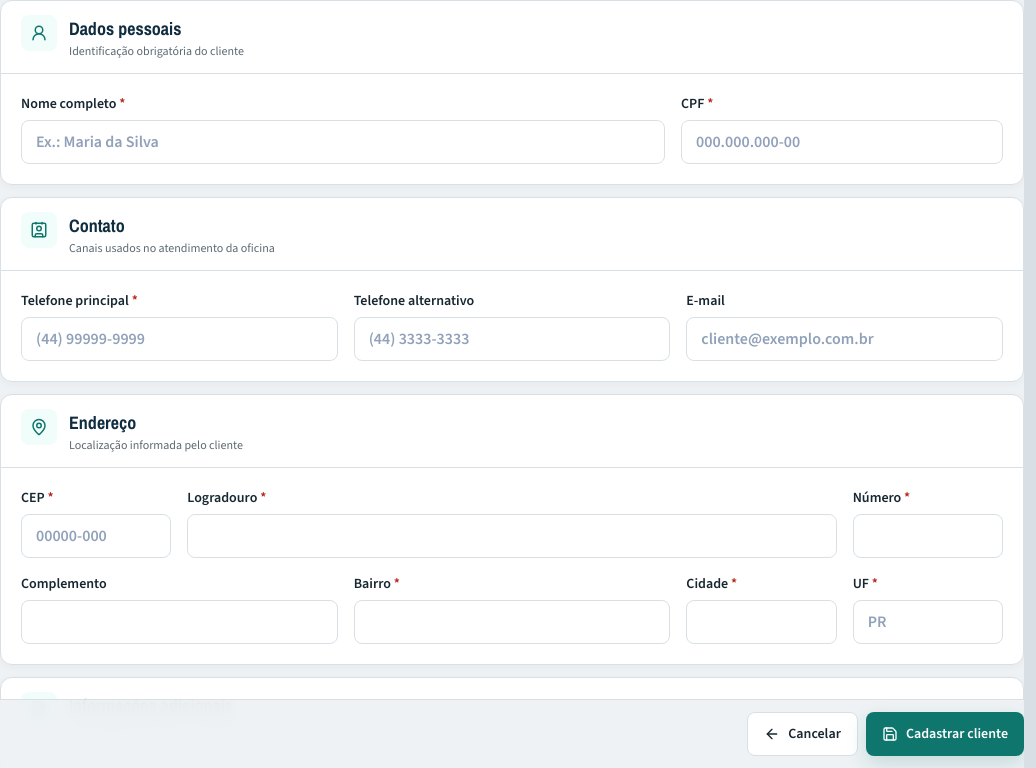
formulário de clientes › apresenta as quatro seções e valida os campos obrigatórios
Expected: the heading "Dados pessoais" is shown, [69, 16, 181, 41]
Expected: the heading "Contato" is shown, [69, 213, 125, 238]
Click the button "Cadastrar cliente". click: (945, 734)
box: [866, 712, 1024, 756]
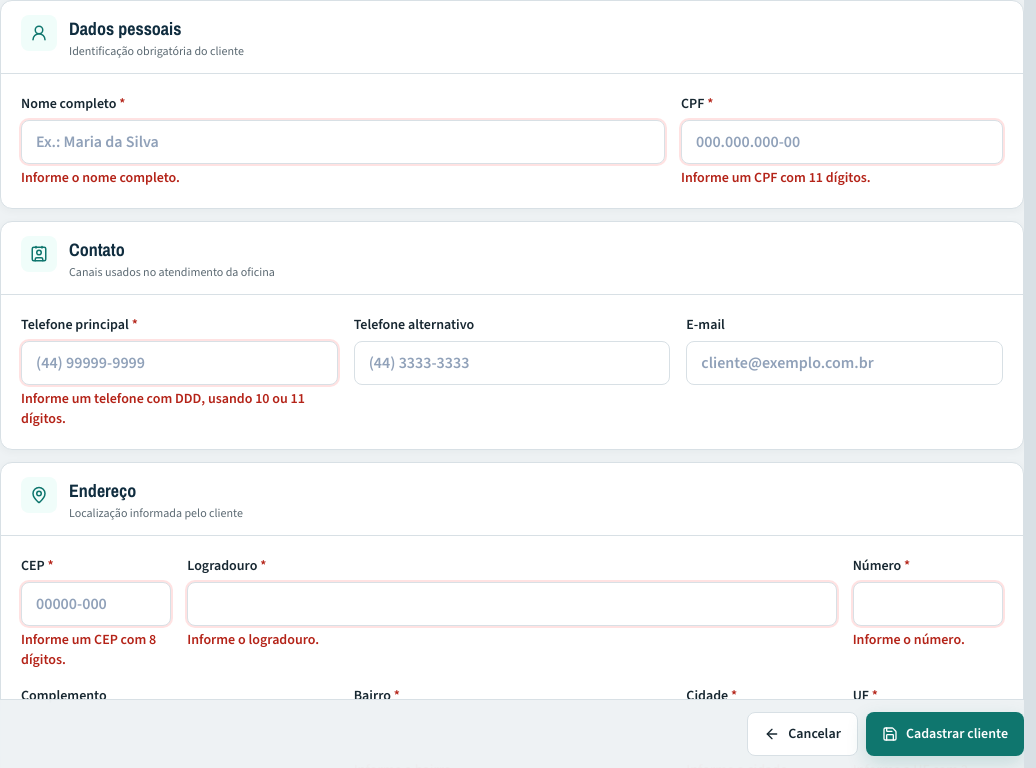
Expected: the text "Informe o nome completo." is shown, [21, 168, 180, 187]
Expected: the text "Informe um CPF com 11 dígitos." is shown, [681, 168, 871, 187]
